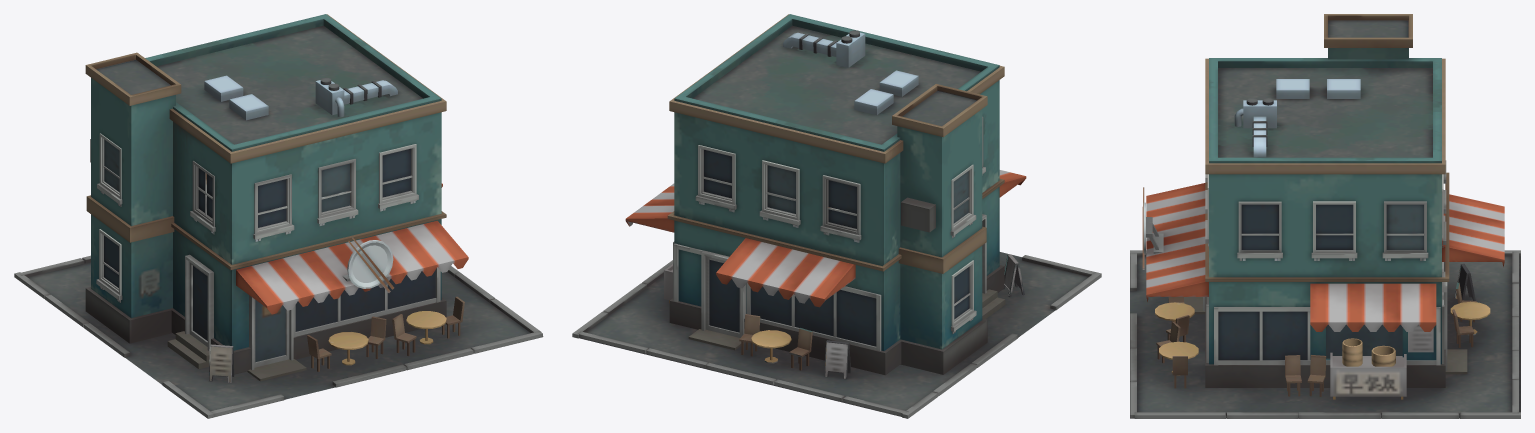
File: tokyo1.glb
3 views of the same model, side by side, from view 1: azimuth 30°, elevation 25°; view 2: azimuth 150°, elevation 25°; view 3: azimuth 270°, elevation 25° (orthographic).
Visible parts, largest first — view 1: Building; view 2: Building; view 3: Building.
Boxes of the visible parts, x1=… form: Building: x1=14, y1=14, x2=543, y2=418; Building: x1=572, y1=14, x2=1101, y2=418; Building: x1=1130, y1=14, x2=1520, y2=418.
Bounding box in the file's own units: 10 × 7.06 × 10.
1 material, 1 textured.
